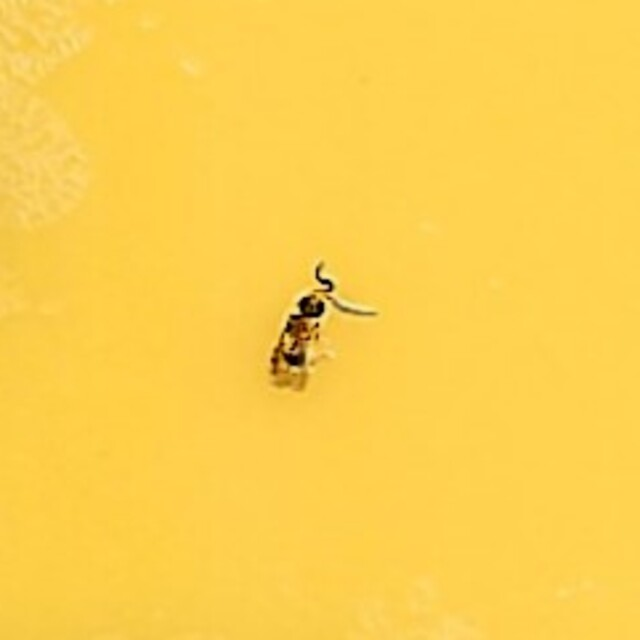Hymenoptera: (266, 254, 374, 386)
